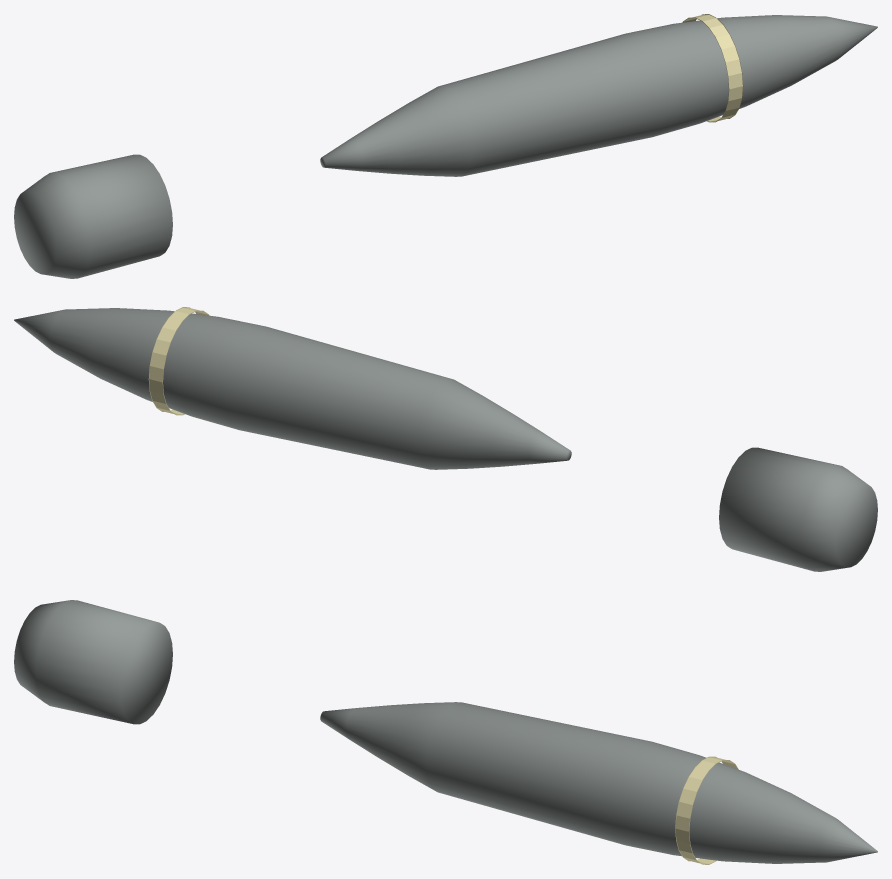
File: RU_SLBM_R13_LOD1.fbx
3 renders of one model, top to bottom at view 1: azimuth 30°, elevation 25°; view 2: azimuth 150°, elevation 25°; view 3: azimuth 330°, elevation 25°, orthographic.
Visible parts, largest first — view 1: WPN_RU_SLBM_R13_LOD1_Body, WPN_RU_SLBM_R13_LOD1_Tail, WPN_RU_SLBM_R13_LOD1_Marking; view 2: WPN_RU_SLBM_R13_LOD1_Body, WPN_RU_SLBM_R13_LOD1_Tail, WPN_RU_SLBM_R13_LOD1_Marking; view 3: WPN_RU_SLBM_R13_LOD1_Body, WPN_RU_SLBM_R13_LOD1_Tail, WPN_RU_SLBM_R13_LOD1_Marking.
Boxes of the visible parts, <box> form: WPN_RU_SLBM_R13_LOD1_Body: <box>320,15,877,176</box>; WPN_RU_SLBM_R13_LOD1_Tail: <box>14,154,172,278</box>; WPN_RU_SLBM_R13_LOD1_Marking: <box>682,14,743,122</box>; WPN_RU_SLBM_R13_LOD1_Body: <box>14,308,571,469</box>; WPN_RU_SLBM_R13_LOD1_Tail: <box>719,447,877,571</box>; WPN_RU_SLBM_R13_LOD1_Marking: <box>148,307,209,415</box>; WPN_RU_SLBM_R13_LOD1_Body: <box>320,702,877,863</box>; WPN_RU_SLBM_R13_LOD1_Tail: <box>14,600,172,724</box>; WPN_RU_SLBM_R13_LOD1_Marking: <box>675,756,738,864</box>.
Size of the model in its own units: 11.8 by 1.33 by 1.33.
